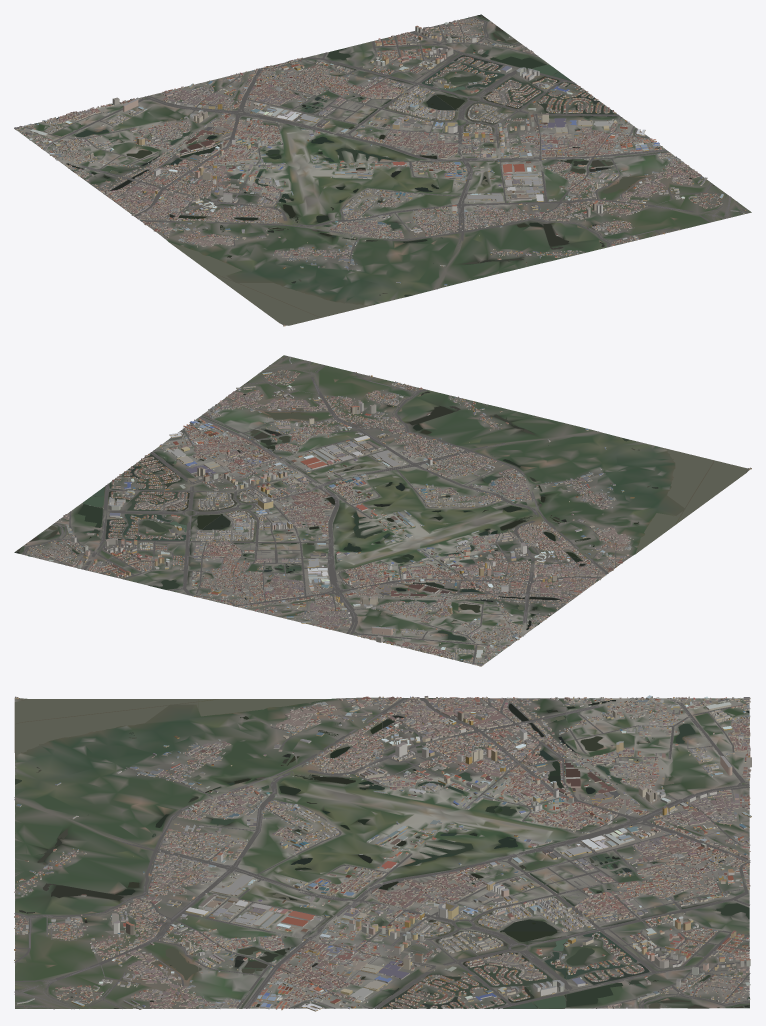
3 views of the same model, one above another, from view 1: azimuth 30°, elevation 25°; view 2: azimuth 150°, elevation 25°; view 3: azimuth 270°, elevation 25° (orthographic). The views are drawn at different scales.
Parts seen in each view (by area): view 1: ground, buildings, roads, water; view 2: ground, buildings, roads, water; view 3: ground, buildings, roads, water.
Part boxes in pixels (x1,y1,x2,y2): ground: (16, 15, 751, 325); buildings: (14, 17, 745, 326); roads: (23, 16, 748, 289); water: (34, 14, 715, 325); ground: (14, 355, 749, 665); buildings: (26, 356, 751, 666); roads: (22, 356, 632, 664); water: (14, 374, 746, 661); ground: (14, 697, 749, 1008); buildings: (14, 695, 751, 1011); roads: (14, 697, 750, 1009); water: (15, 698, 749, 1008).
Bounding box in the file's own units: 5668 × 98.26 × 5632.
